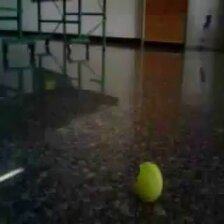tennis: (132, 162, 163, 204)
